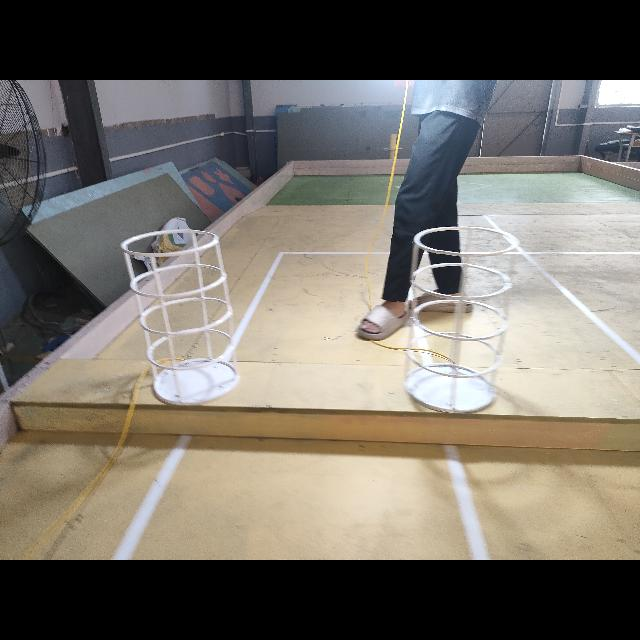S: (119, 224, 245, 411), (404, 226, 522, 414)
